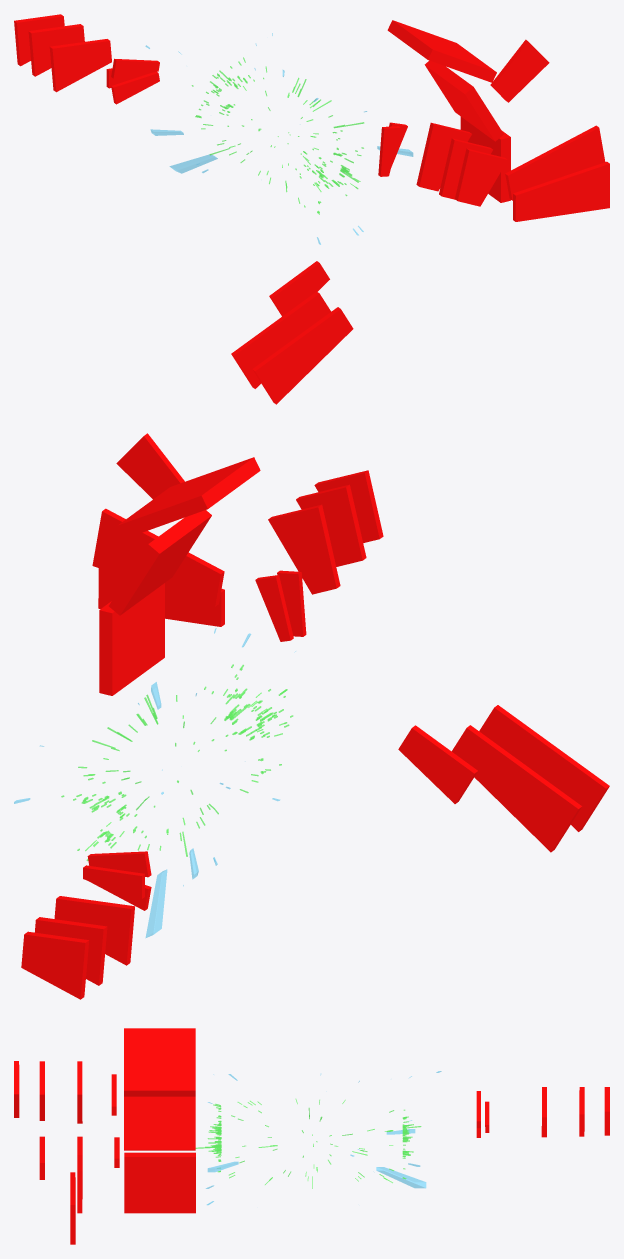
3 views of the same model, one above another, from view 1: azimuth 30°, elevation 25°; view 2: azimuth 150°, elevation 25°; view 3: azimuth 270°, elevation 25° (orthographic). The views are drawn at different scales.
Visible parts, largest first — view 1: MuonChambers_V1, EERecHits_V2, HBRecHits_V2, EBRecHits_V2; view 2: MuonChambers_V1, EERecHits_V2, HBRecHits_V2, EBRecHits_V2; view 3: MuonChambers_V1, HBRecHits_V2, EERecHits_V2, EBRecHits_V2.
Boxes of the visible parts, x1,y1,x2,y2 form: MuonChambers_V1: (14, 14, 609, 404); EERecHits_V2: (191, 61, 363, 214); HBRecHits_V2: (145, 33, 413, 244); EBRecHits_V2: (195, 57, 364, 203); MuonChambers_V1: (21, 433, 609, 999); EERecHits_V2: (61, 664, 293, 861); HBRecHits_V2: (14, 628, 295, 938); EBRecHits_V2: (78, 689, 285, 856); MuonChambers_V1: (14, 1028, 609, 1244); HBRecHits_V2: (205, 1071, 441, 1205); EERecHits_V2: (195, 1103, 421, 1179); EBRecHits_V2: (228, 1098, 394, 1188).
Bounding box in the file's own units: 13.39 × 9.29 × 20.92.
